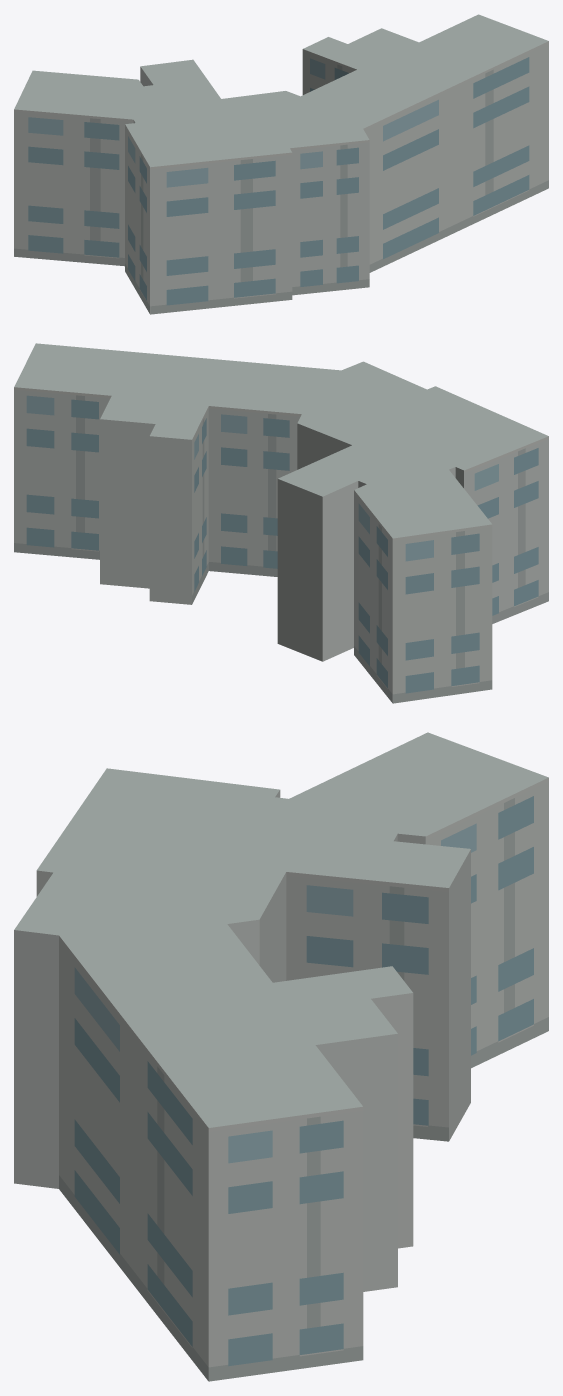
The model's file is residential-6bd6da87-9dcb-471d-8764-9db26eebe82f.glb.
3 renders of one model, top to bottom at view 1: azimuth 30°, elevation 25°; view 2: azimuth 150°, elevation 25°; view 3: azimuth 270°, elevation 25°, orthographic. The views are drawn at different scales.
Parts seen in each view (by area): view 1: residential-6bd6da87-9dcb-471d-8764-9db26eebe82f.tmp; view 2: residential-6bd6da87-9dcb-471d-8764-9db26eebe82f.tmp; view 3: residential-6bd6da87-9dcb-471d-8764-9db26eebe82f.tmp.
Boxes of the visible parts, box(x1,y1,x2,y2) form: residential-6bd6da87-9dcb-471d-8764-9db26eebe82f.tmp: box(14, 14, 548, 314); residential-6bd6da87-9dcb-471d-8764-9db26eebe82f.tmp: box(14, 343, 548, 703); residential-6bd6da87-9dcb-471d-8764-9db26eebe82f.tmp: box(14, 732, 548, 1381).
Size of the model in its own units: 51.05 by 15.25 by 29.16.
